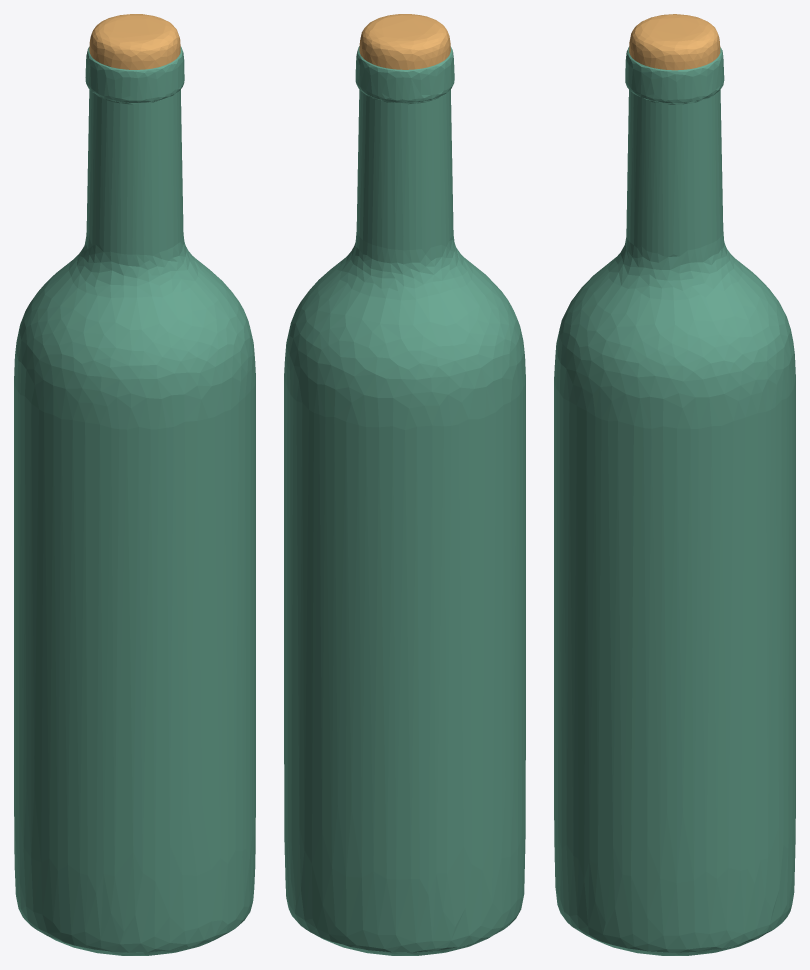
File: wine_bottle.dae
3 renders of one model, left to right at view 1: azimuth 30°, elevation 25°; view 2: azimuth 150°, elevation 25°; view 3: azimuth 270°, elevation 25°, orthographic.
Parts seen in each view (by area): view 1: Untitled; view 2: Untitled; view 3: Untitled.
Part boxes in pixels (x1,y1,x2,y2): Untitled: (14,14,255,955); Untitled: (284,14,525,955); Untitled: (554,14,795,955).
Size of the model in its own units: 0.0519 by 0.0519 by 0.2116.
